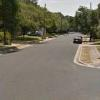Tree: (14, 1, 66, 43)
